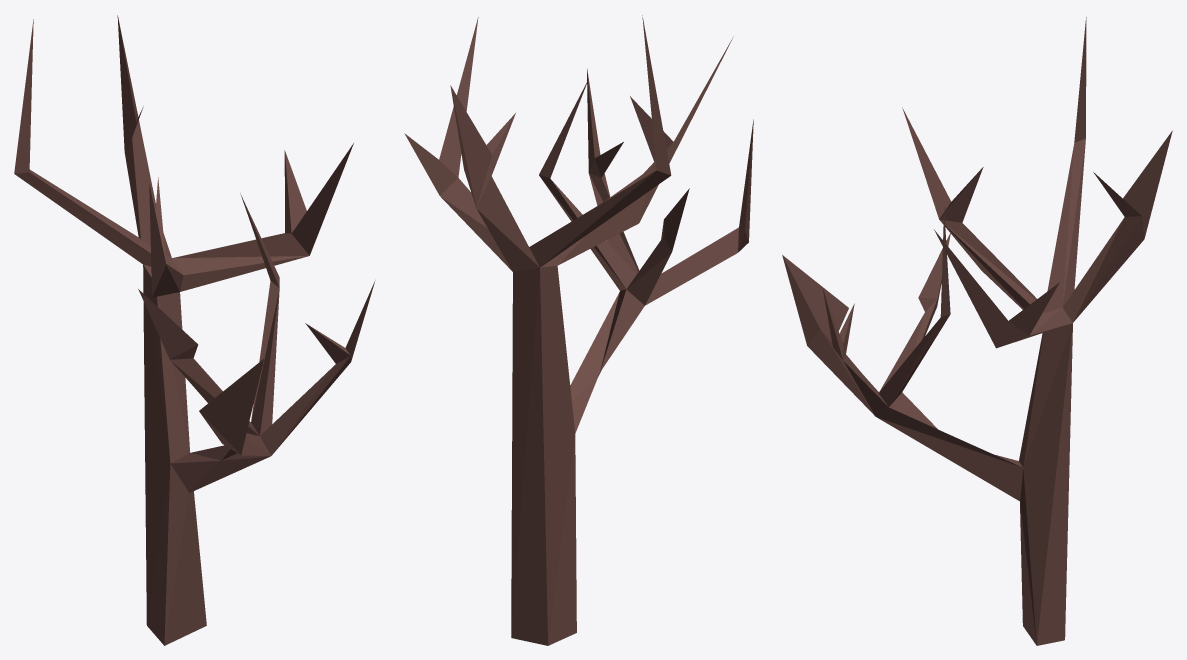
Rendered from CommonTree_Dead_2.lod3.glb.
The picture shows the model from 3 angles, left to right: view 1: azimuth 30°, elevation 25°; view 2: azimuth 150°, elevation 25°; view 3: azimuth 270°, elevation 25°; orthographic projection. The views are drawn at different scales.
Parts seen in each view (by area): view 1: CommonTree_Dead_2; view 2: CommonTree_Dead_2; view 3: CommonTree_Dead_2.
Boxes of the visible parts, x1,y1,x2,y2 form: CommonTree_Dead_2: [14, 15, 375, 645]; CommonTree_Dead_2: [404, 15, 753, 645]; CommonTree_Dead_2: [782, 17, 1172, 645].
Size of the model in its own units: 1.29 by 2.97 by 1.85.
